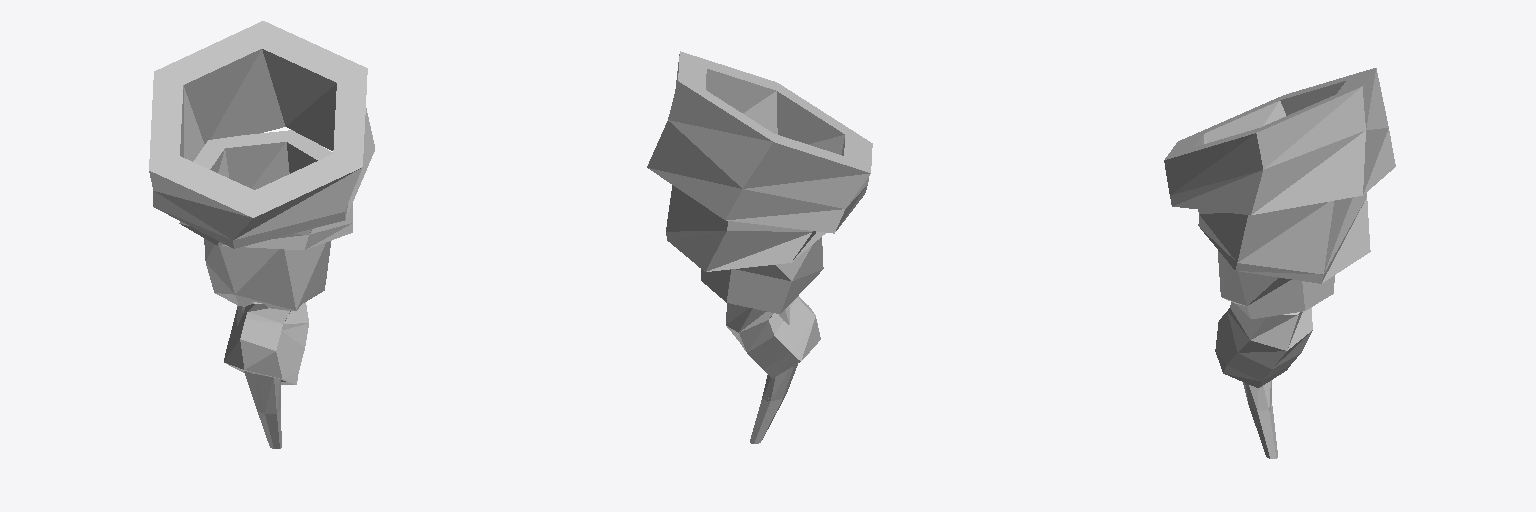
Rendered from PUSHILIN_tornado.obj.
3 views of the same model, side by side, from view 1: azimuth 30°, elevation 25°; view 2: azimuth 150°, elevation 25°; view 3: azimuth 270°, elevation 25° (orthographic).
Visible parts, largest first — view 1: tornado; view 2: tornado; view 3: tornado.
Boxes of the visible parts, x1=… form: tornado: x1=149, y1=21, x2=374, y2=448; tornado: x1=647, y1=51, x2=872, y2=443; tornado: x1=1164, y1=68, x2=1395, y2=458.
Bounding box in the file's own units: 1.26 × 2.21 × 1.2.